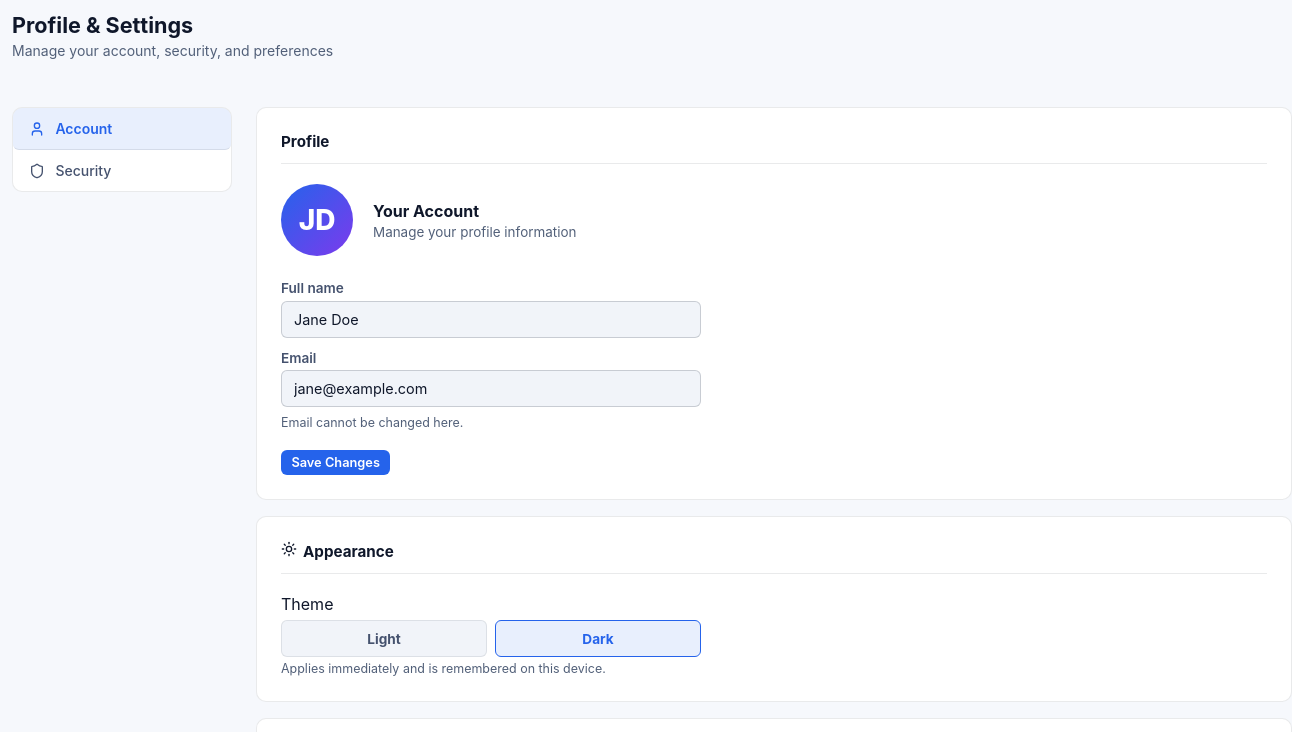
ProfilePage › Security tab › changes the password successfully
The image size is (1292, 732).
Click the button "Security" at (122, 171), box 13,150 -> 231,191
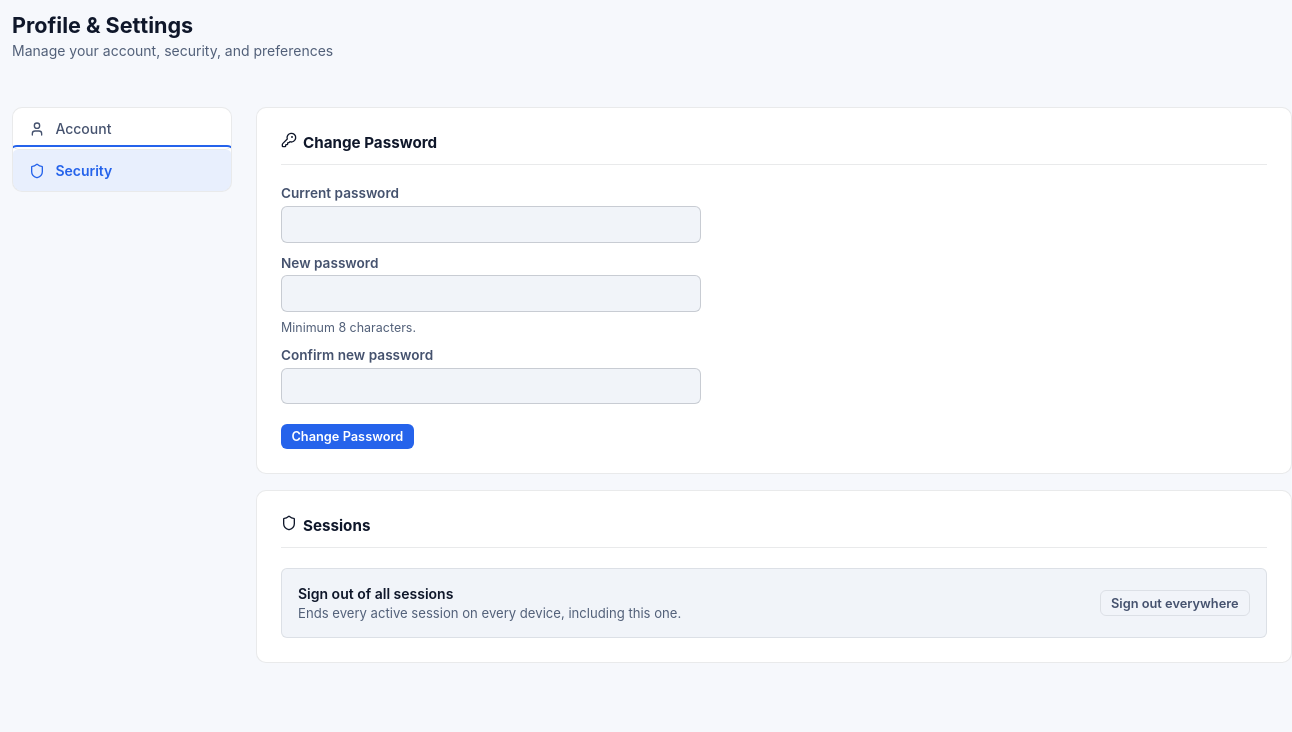
Type "oldpassword1" into the password field labelled "Current password" at (491, 224), box 281,206 -> 701,243
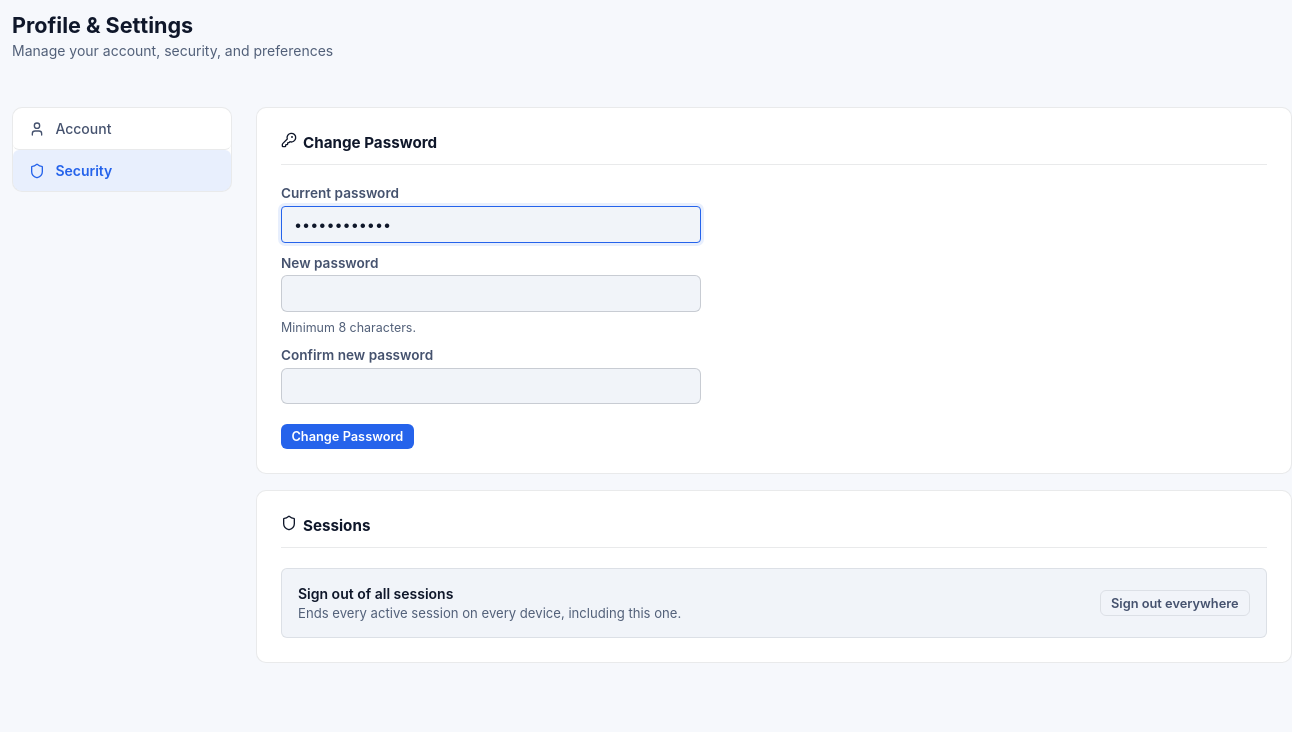
Type "newpassword1" into the password field labelled "New password Minimum 8 characters." at (491, 294), box 281,275 -> 701,312
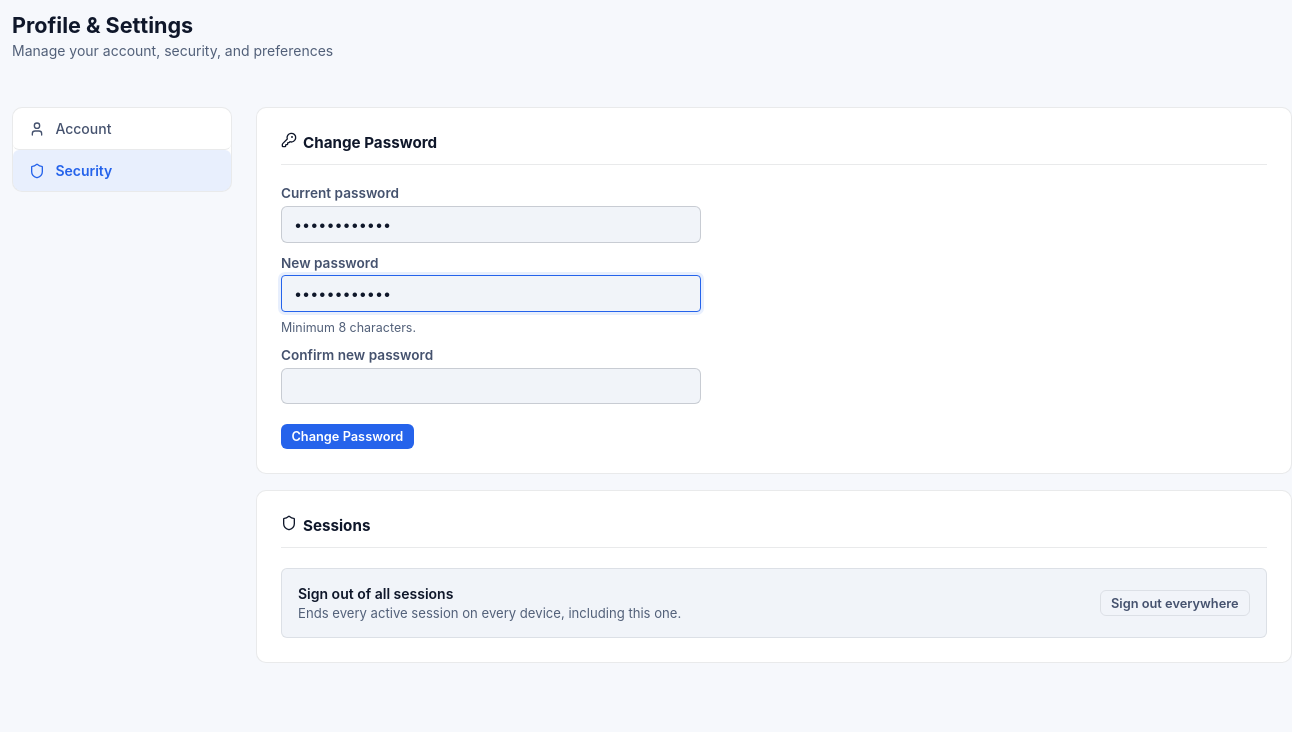
Type "newpassword1" into the password field labelled "Confirm new password" at (491, 386), box 281,368 -> 701,404
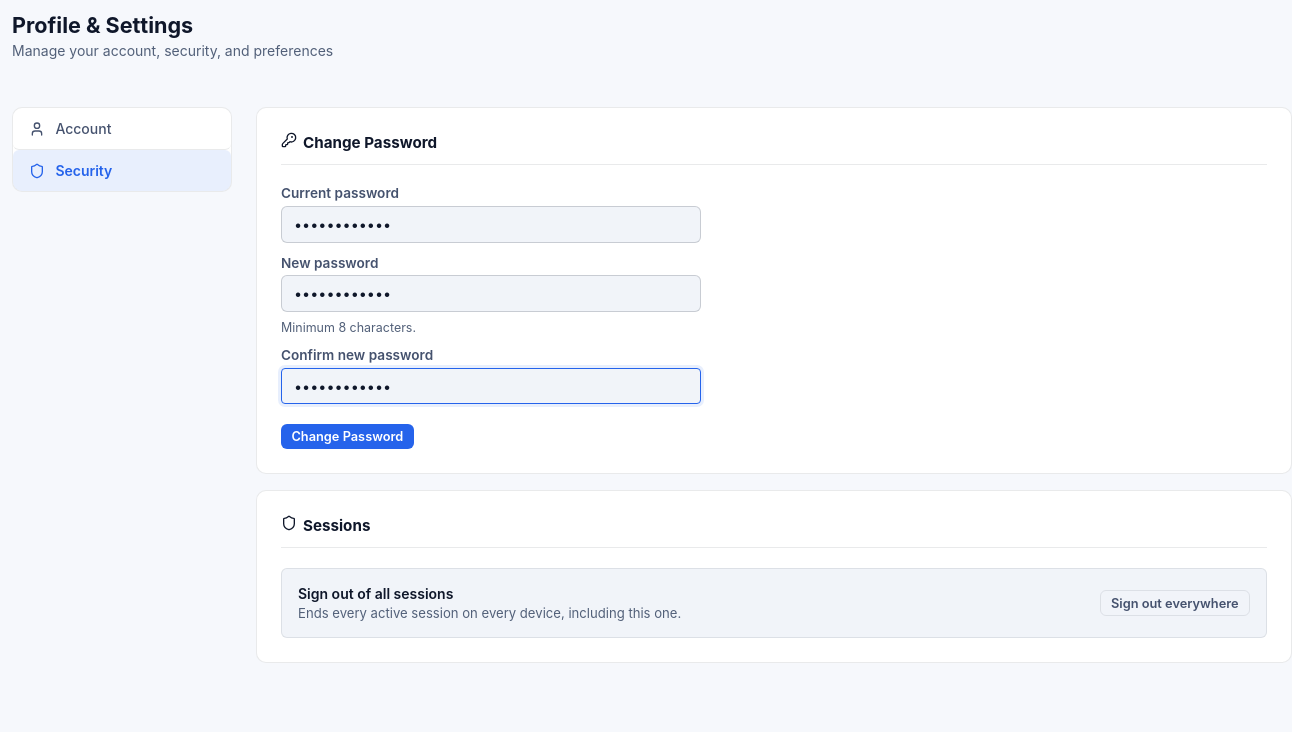
Click the button "Change Password" at (347, 437), box 281,424 -> 414,449
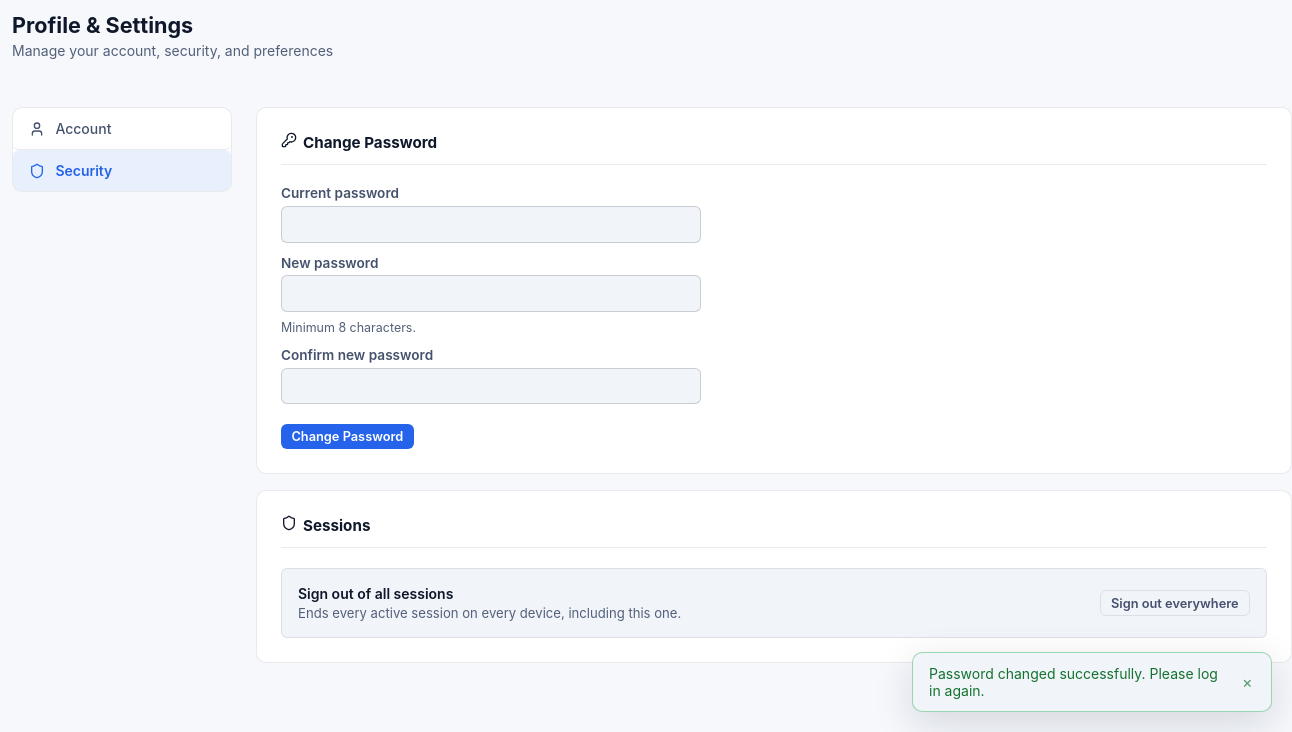
Check: the text "Password changed successfully. Please log in again." is shown, box 929,665 -> 1228,699
